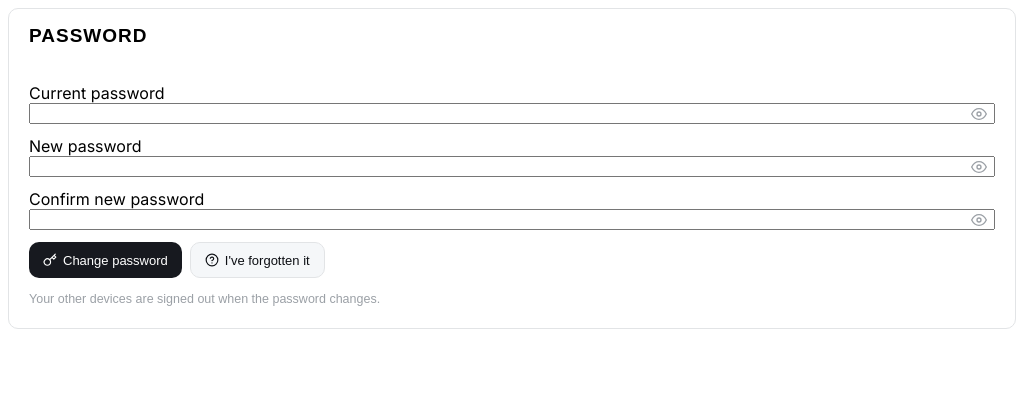
Test: PasswordCard forgot-password › confirms before filing anything
What coordinates should you click on to do the following:
click the button "I've forgotten it"
I would click on:
 (257, 260)
Its box is [190,242,325,278].
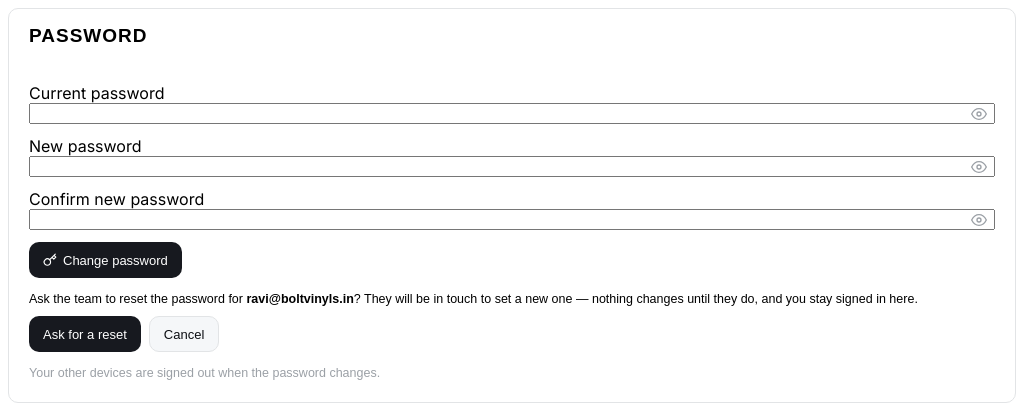
Expected: the text "ravi@boltvinyls.in" is shown, [246,292,354,306]
